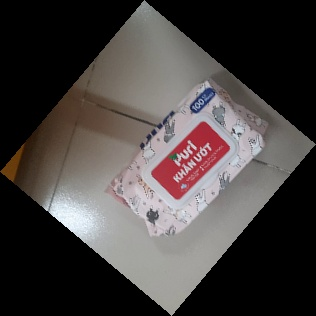Puri hong: (102, 79, 268, 238)
